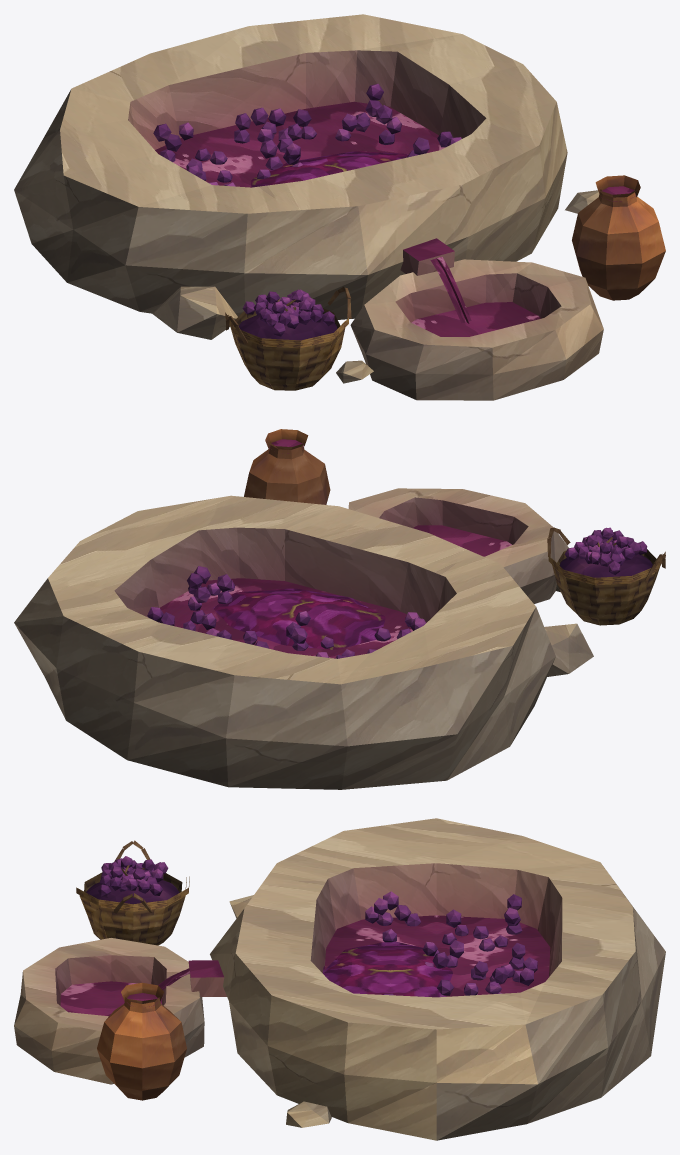
Rendered from lagar.glb.
3 renders of one model, top to bottom at view 1: azimuth 30°, elevation 25°; view 2: azimuth 150°, elevation 25°; view 3: azimuth 270°, elevation 25°, orthographic. The views are drawn at different scales.
Visible parts, largest first — view 1: Lagar_Rocha, Lagar_CestoUvas, Lagar_Jarro, Lagar_SucoTanque, Lagar_SucoColeta, Lagar_Bagaco, Lagar_Uvas_2, Lagar_Uvas_3, Lagar_Uvas_1, Lagar_Uvas_6, Lagar_Fio; view 2: Lagar_Rocha, Lagar_CestoUvas, Lagar_Bagaco, Lagar_Jarro, Lagar_SucoTanque, Lagar_SucoColeta, Lagar_Uvas_3, Lagar_Uvas_5, Lagar_Uvas_6, Lagar_Uvas_4; view 3: Lagar_Rocha, Lagar_Jarro, Lagar_SucoTanque, Lagar_CestoUvas, Lagar_Bagaco, Lagar_SucoColeta, Lagar_Uvas_1, Lagar_Uvas_2, Lagar_Uvas_4, Lagar_Uvas_6.
Part boxes in pixels (bbox=[...]): Lagar_Rocha: bbox=[14, 14, 603, 400]; Lagar_CestoUvas: bbox=[225, 286, 351, 390]; Lagar_Jarro: bbox=[572, 175, 665, 300]; Lagar_SucoTanque: bbox=[155, 101, 445, 187]; Lagar_SucoColeta: bbox=[411, 302, 540, 336]; Lagar_Bagaco: bbox=[251, 151, 408, 187]; Lagar_Uvas_2: bbox=[234, 107, 316, 152]; Lagar_Uvas_3: bbox=[335, 83, 401, 144]; Lagar_Uvas_1: bbox=[153, 122, 232, 182]; Lagar_Uvas_6: bbox=[257, 139, 302, 178]; Lagar_Fio: bbox=[430, 257, 471, 323]; Lagar_Rocha: bbox=[14, 488, 593, 789]; Lagar_CestoUvas: bbox=[547, 527, 665, 625]; Lagar_Bagaco: bbox=[213, 588, 385, 649]; Lagar_Jarro: bbox=[244, 429, 330, 504]; Lagar_SucoTanque: bbox=[159, 578, 426, 658]; Lagar_SucoColeta: bbox=[413, 525, 511, 556]; Lagar_Uvas_3: bbox=[147, 586, 219, 636]; Lagar_Uvas_5: bbox=[187, 566, 235, 603]; Lagar_Uvas_6: bbox=[286, 611, 333, 650]; Lagar_Uvas_4: bbox=[374, 612, 425, 641]; Lagar_Rocha: bbox=[14, 818, 665, 1140]; Lagar_Jarro: bbox=[97, 982, 186, 1100]; Lagar_SucoTanque: bbox=[324, 915, 550, 996]; Lagar_CestoUvas: bbox=[76, 840, 189, 945]; Lagar_Bagaco: bbox=[323, 941, 452, 997]; Lagar_SucoColeta: bbox=[60, 981, 161, 1016]; Lagar_Uvas_1: bbox=[442, 894, 522, 951]; Lagar_Uvas_2: bbox=[471, 943, 537, 993]; Lagar_Uvas_4: bbox=[365, 891, 420, 942]; Lagar_Uvas_6: bbox=[422, 940, 463, 968].
Bounding box in the file's own units: 2.86 × 0.6743 × 3.54.
1 material, 1 textured.
